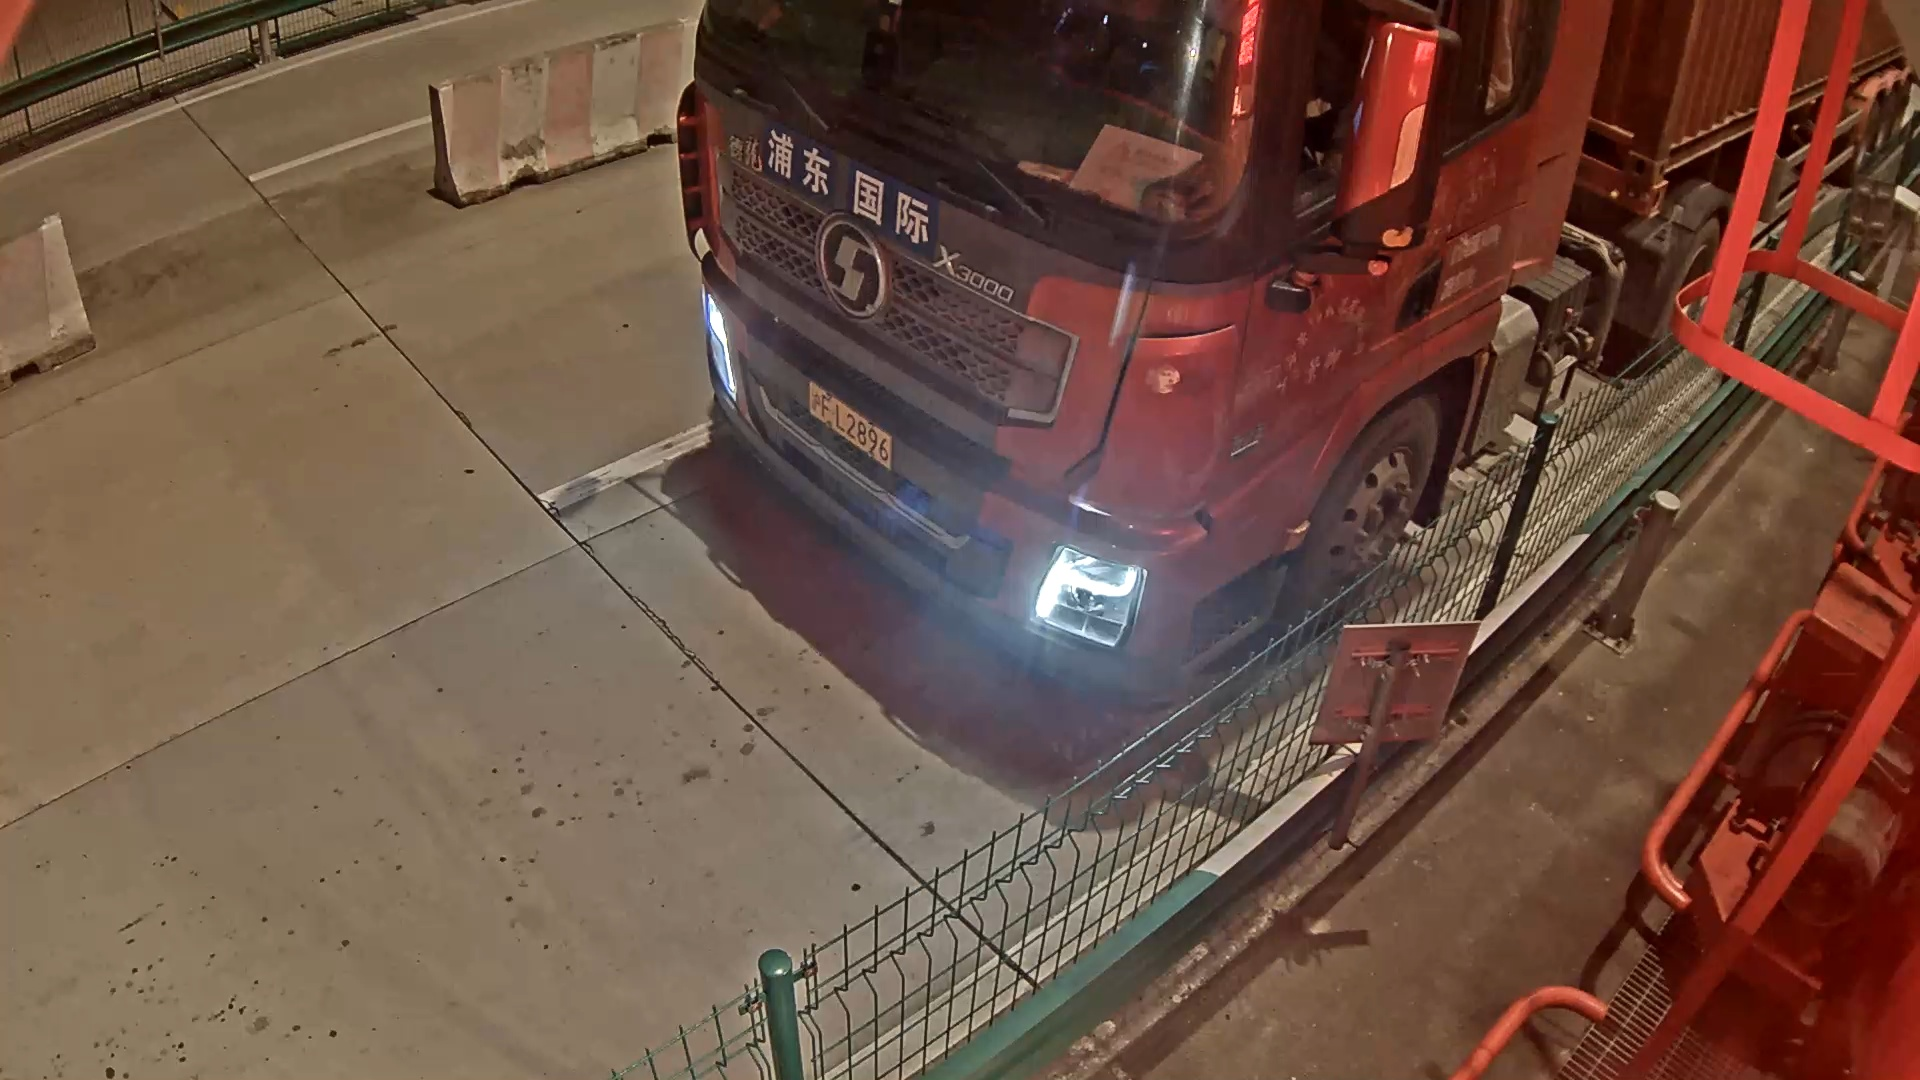head: (670, 22, 1463, 775)
plate: (800, 376, 909, 473)
